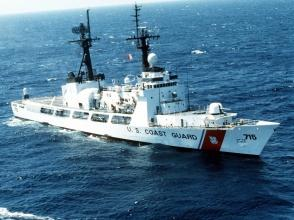warship: (10, 6, 277, 153)
